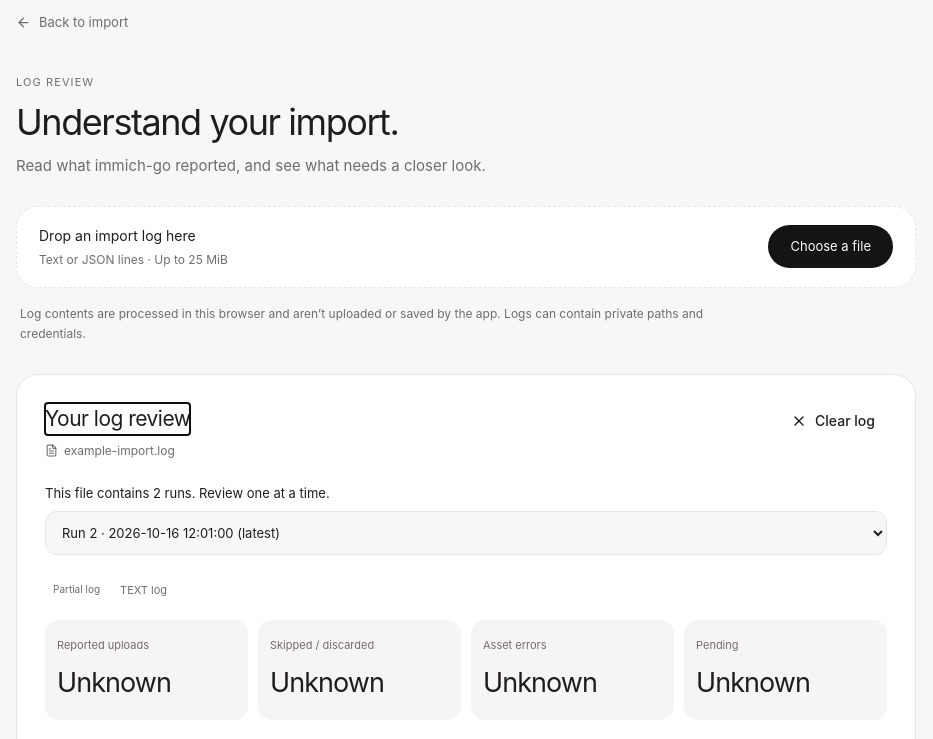
Test case: local log review lifecycle › switches between appended runs without combining their totals
Earlier steps of the test are not shown.
Check: the text "Partial log" is shown, box [45,579,108,600]
Check: the text "Unknown" below "Reported uploads" is shown, box [57,666,171,699]
Select "Run 1 · 2026-10-16 12:00:00" in the dropdown labelled "This file contains 2 runs. Review one at a time.". click: (466, 533)
box: [45,511,887,555]
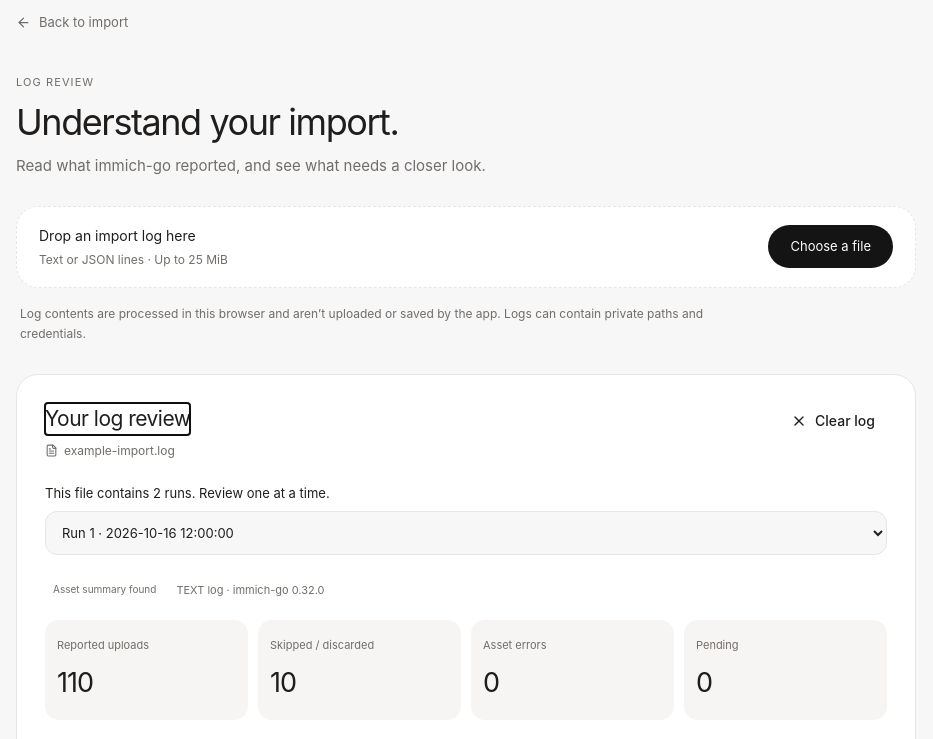
Check: the text "110" is shown, box [57,666,93,699]
Check: the text "Asset summary found" is shown, box [45,579,164,600]
